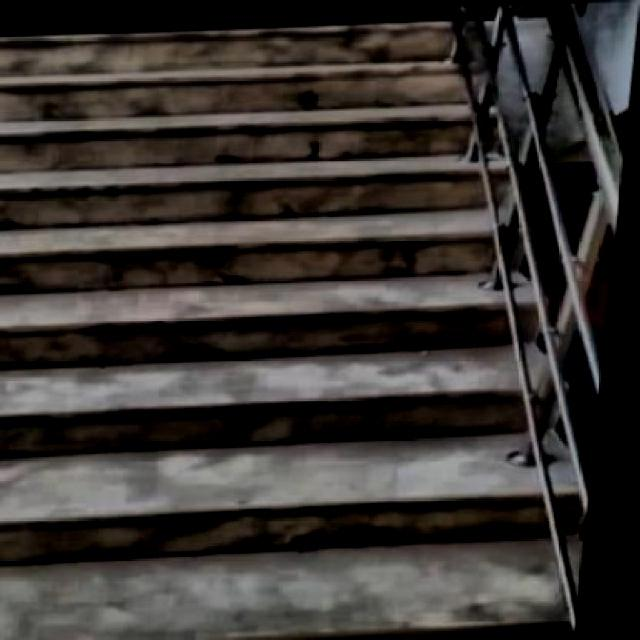stair: (2, 0, 622, 638)
